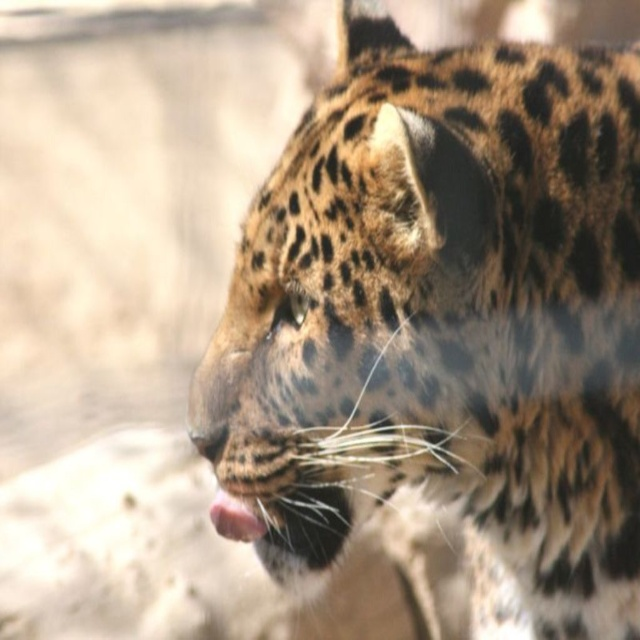Leopard: (186, 0, 639, 639)
